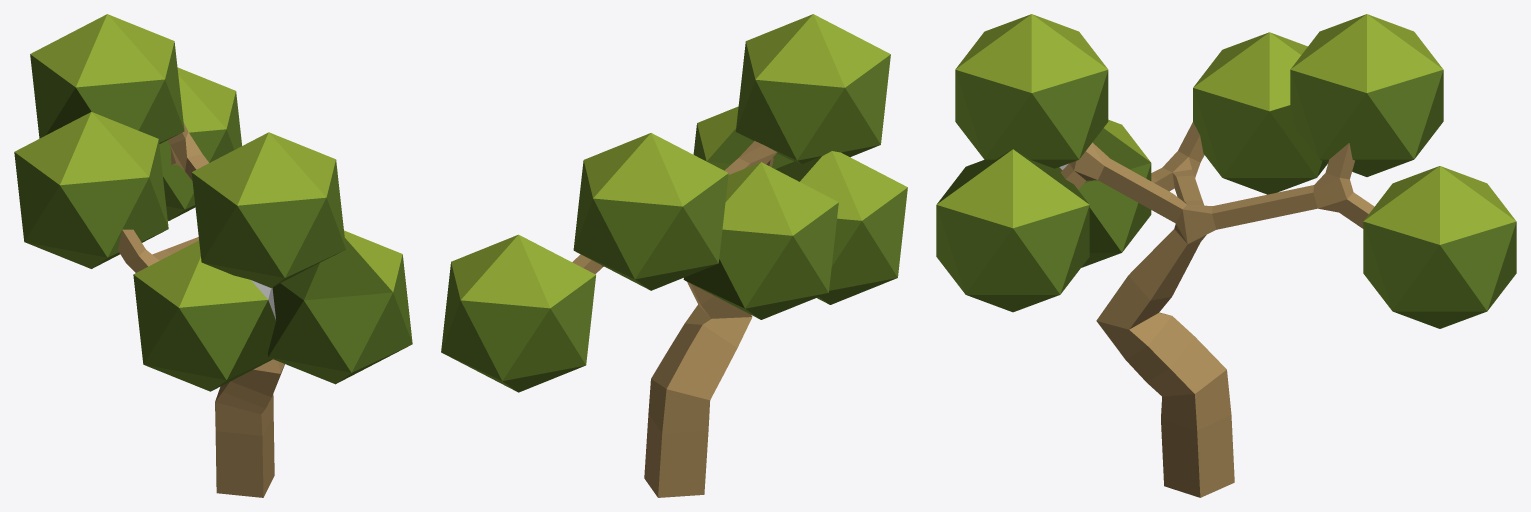
File: treeBonsai_Col.fbx
3 views of the same model, side by side, from view 1: azimuth 30°, elevation 25°; view 2: azimuth 150°, elevation 25°; view 3: azimuth 270°, elevation 25° (orthographic). The views are drawn at different scales.
Visible parts, largest first — view 1: tree_Bonsai; view 2: tree_Bonsai; view 3: tree_Bonsai.
Boxes of the visible parts, box(x1,y1,x2,y2) form: tree_Bonsai: box(14, 14, 412, 497); tree_Bonsai: box(441, 14, 907, 497); tree_Bonsai: box(936, 14, 1516, 497).
Bounding box in the file's own units: 121 × 168 × 199.
